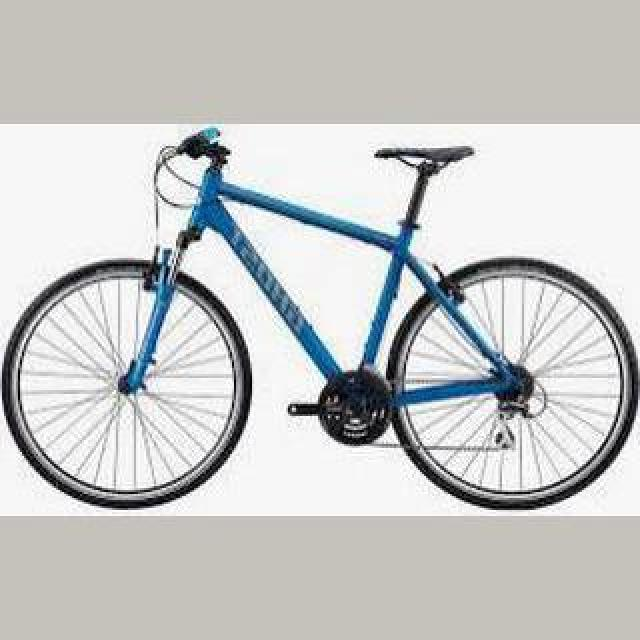Person: (0, 124, 640, 514)
